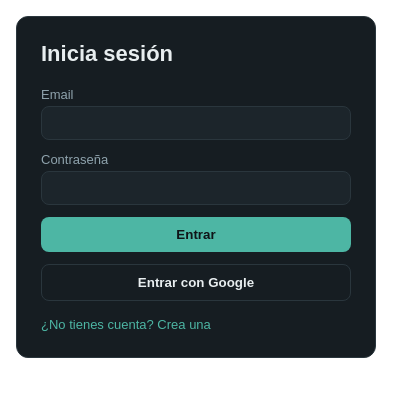
LoginForm › should show an error message when the credentials are invalid
Type "aitor@example.com" into the field labelled "Email".
click(196, 123); type("aitor@example.com")  # box [41,106,351,140]
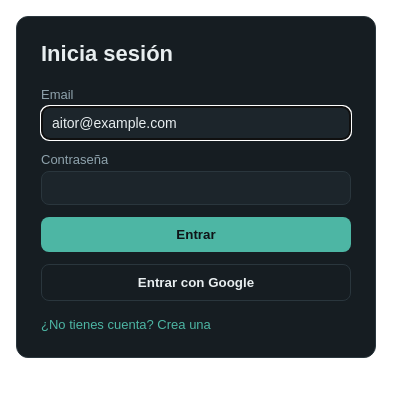
Type "wrong-password" into the password field labelled "Contraseña".
click(196, 188); type("wrong-password")  # box [41,171,351,205]
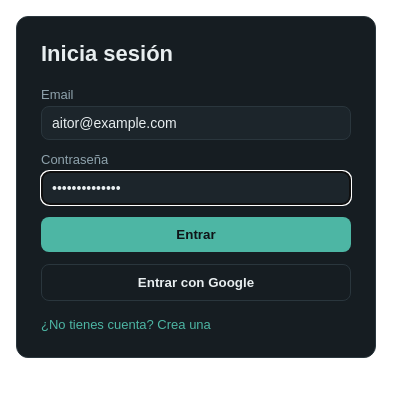
Click the button "Entrar".
click(196, 234)  # box [41,217,351,252]
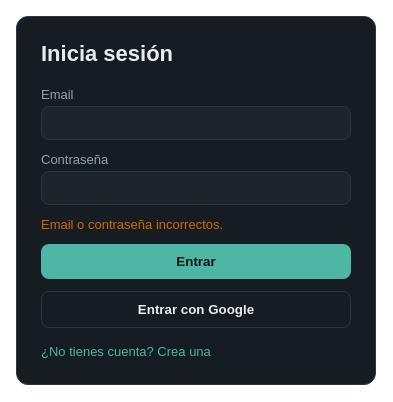
Expected: the message reads "Email o contraseña incorrectos.", [41,217,223,232]
